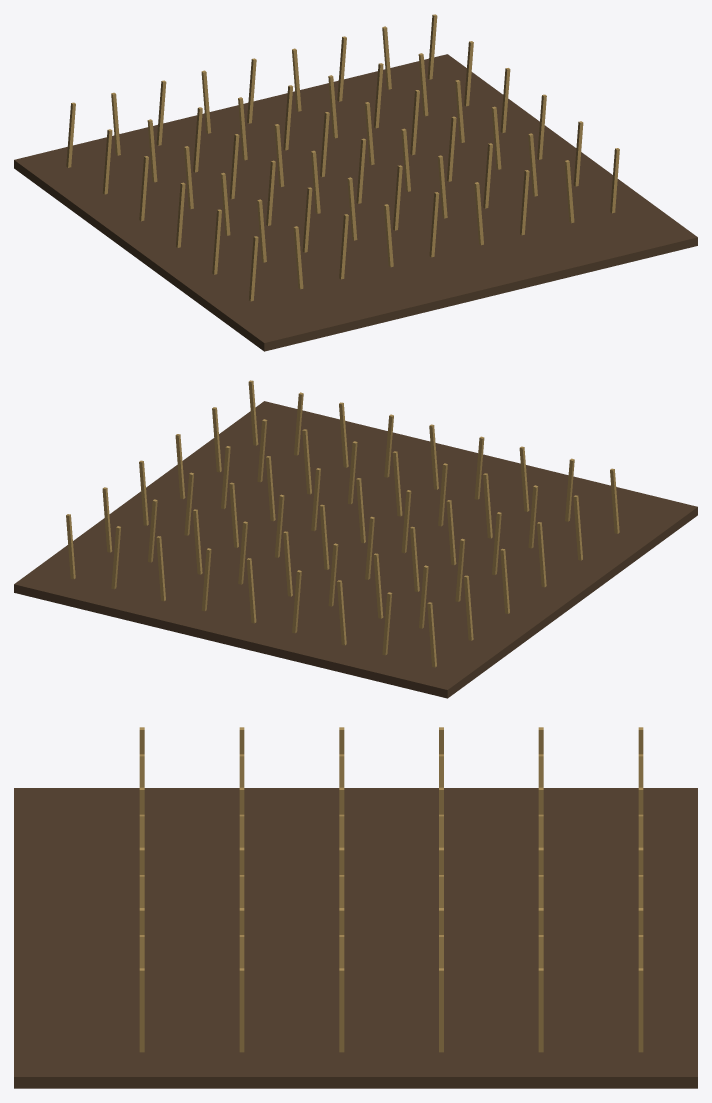
Rendered from b-farm-ayyubid.glb.
The picture shows the model from 3 angles, top to bottom: view 1: azimuth 30°, elevation 25°; view 2: azimuth 150°, elevation 25°; view 3: azimuth 270°, elevation 25°; orthographic projection. The views are drawn at different scales.
Parts seen in each view (by area): view 1: Structure; view 2: Structure; view 3: Structure.
Boxes of the visible parts, left/top/right/bottom form: Structure: left=14, top=14, right=697, bottom=351; Structure: left=14, top=380, right=697, bottom=698; Structure: left=14, top=727, right=697, bottom=1088.
Bounding box in the file's own units: 4.8 × 0.7503 × 4.8.
